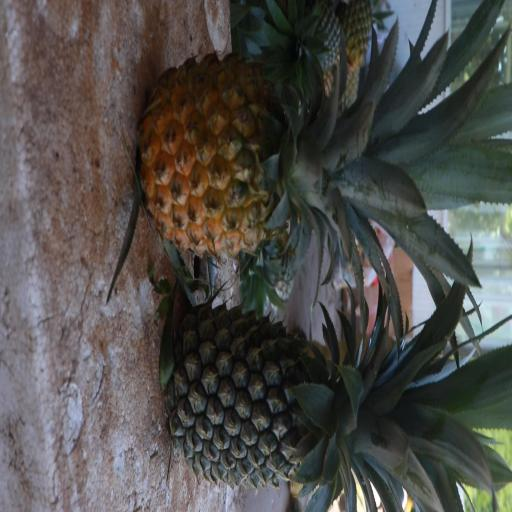Pineapple - v8 v1: (139, 59, 435, 258)
